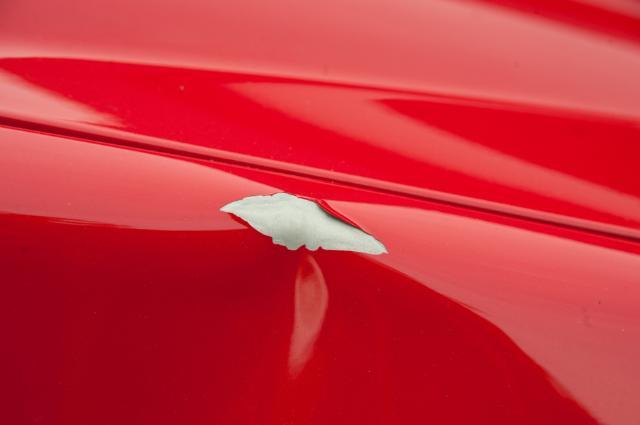Bumper: (186, 161, 439, 371)
